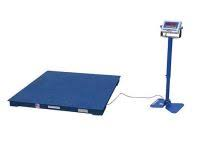Industrial Scale: (7, 20, 185, 115)
